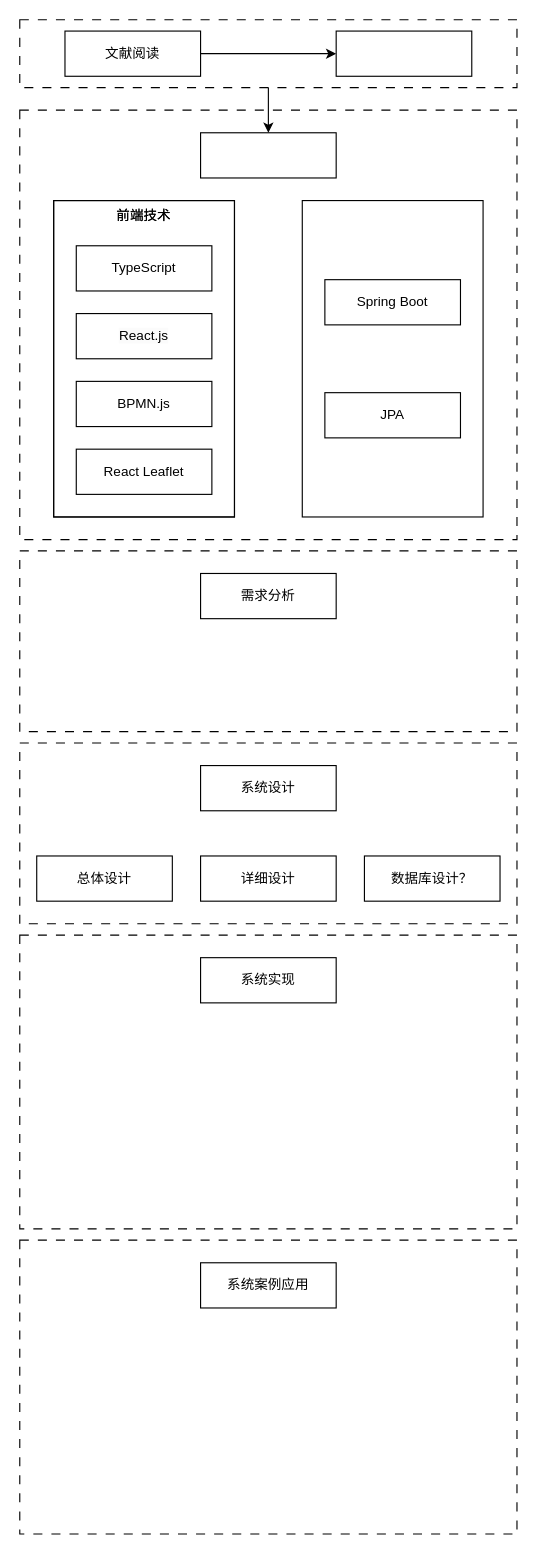
Image size: 537x1554. Some labels were removed from this diagram. The box of each missing label's shape, as (x1, y1, x2, y2) in pixels:
专家咨询: (335, 30, 472, 76)
后端技术: (301, 199, 483, 517)
技术选型: (199, 132, 336, 178)
